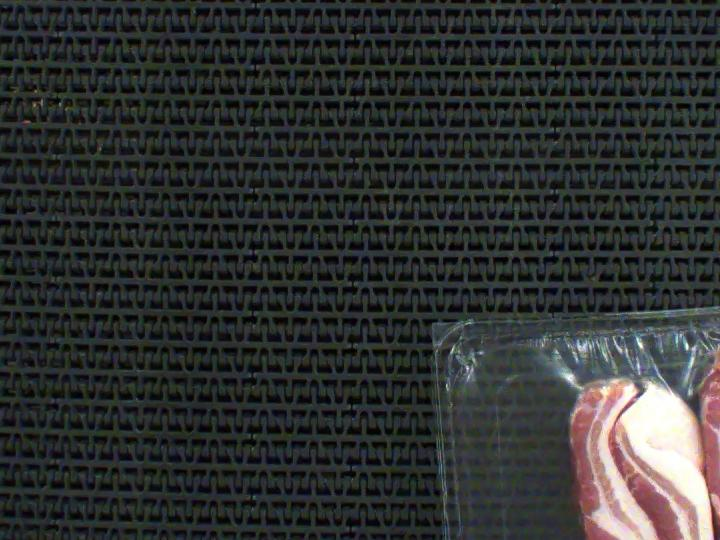unsealed: (523, 305, 720, 540)
